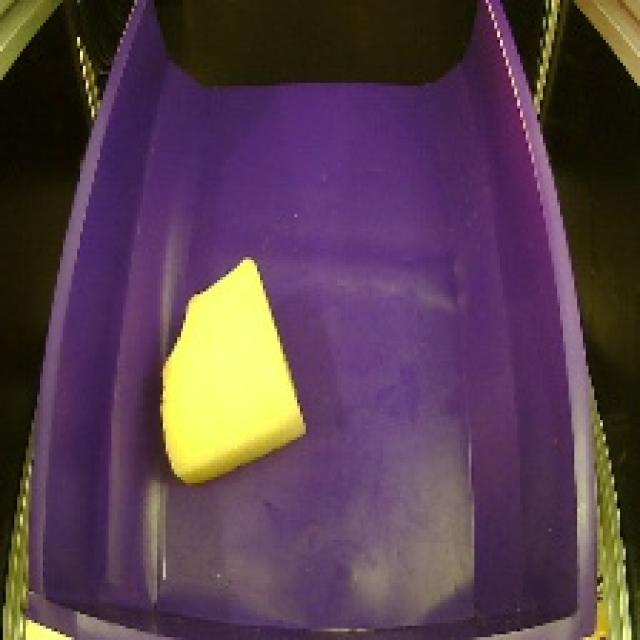potato: (144, 247, 322, 486)
